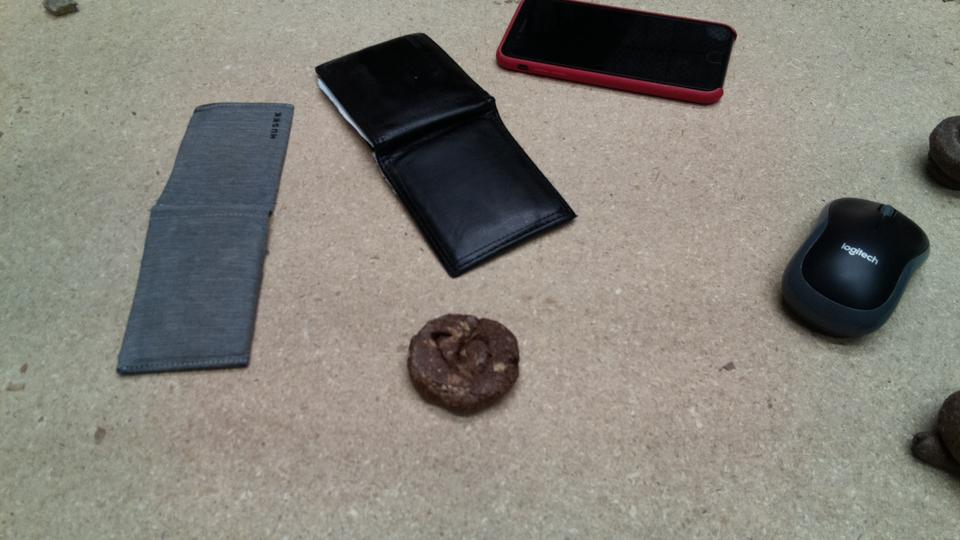poop: (406, 310, 522, 419), (908, 386, 960, 477), (925, 114, 959, 199)
